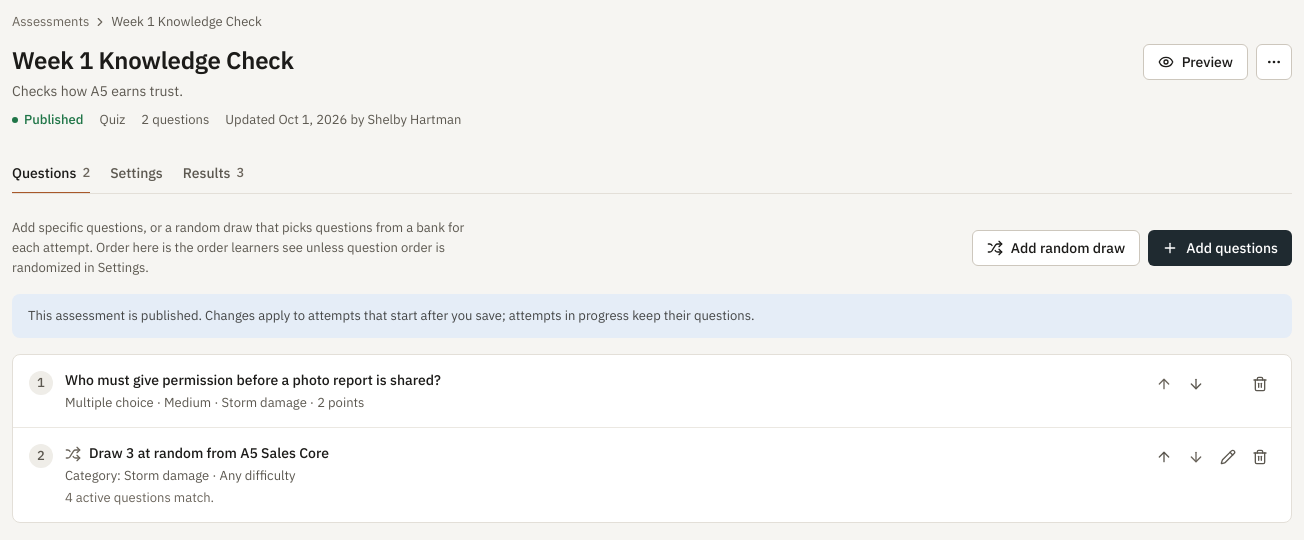
AssessmentBuilderPage › publishing › offers archive instead of publish for a published assessment
Expected: the heading "Week 1 Knowledge Check" is shown, [12,44,294,76]
Expected: the text "This assessment is published. Changes apply to attempts that start after you save" is shown, [28,307,754,324]
Click the button named "More actions". click: [1274, 62]
box: [1256,44,1292,80]
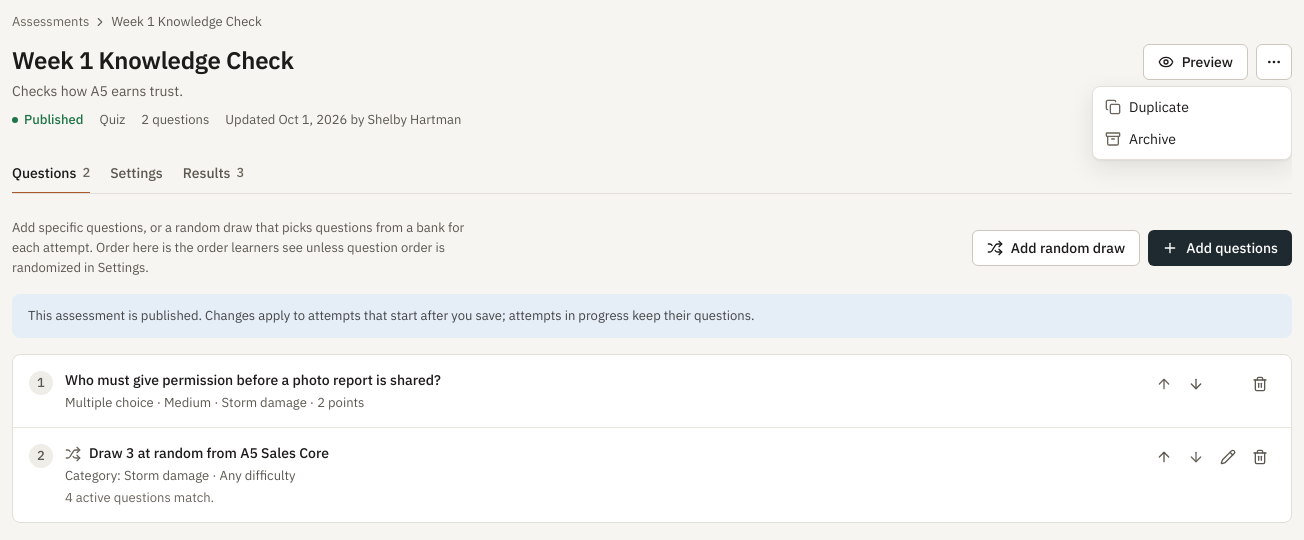
Expected: the menu item "Archive" is shown, [1105,130,1176,148]
